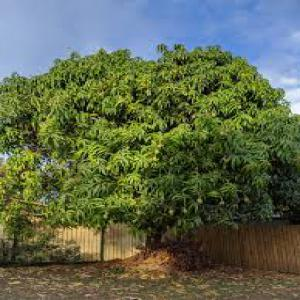Tree: (21, 39, 298, 258)
